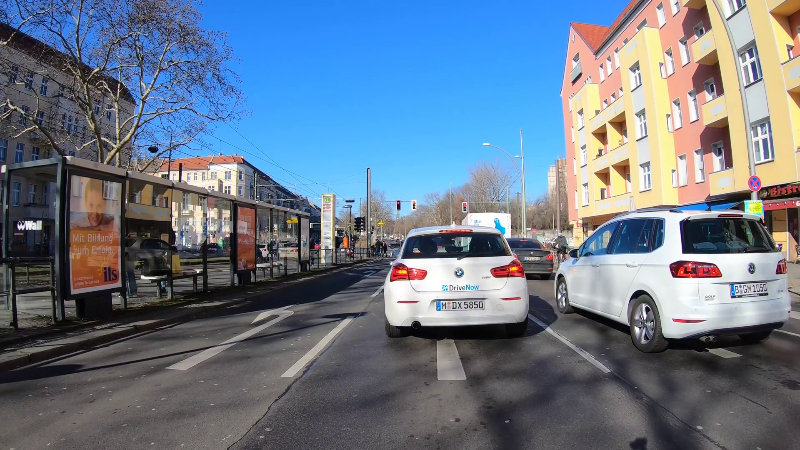Plate: (731, 279, 769, 298), (435, 298, 484, 310)
